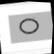no answer: (11, 12, 44, 38)
